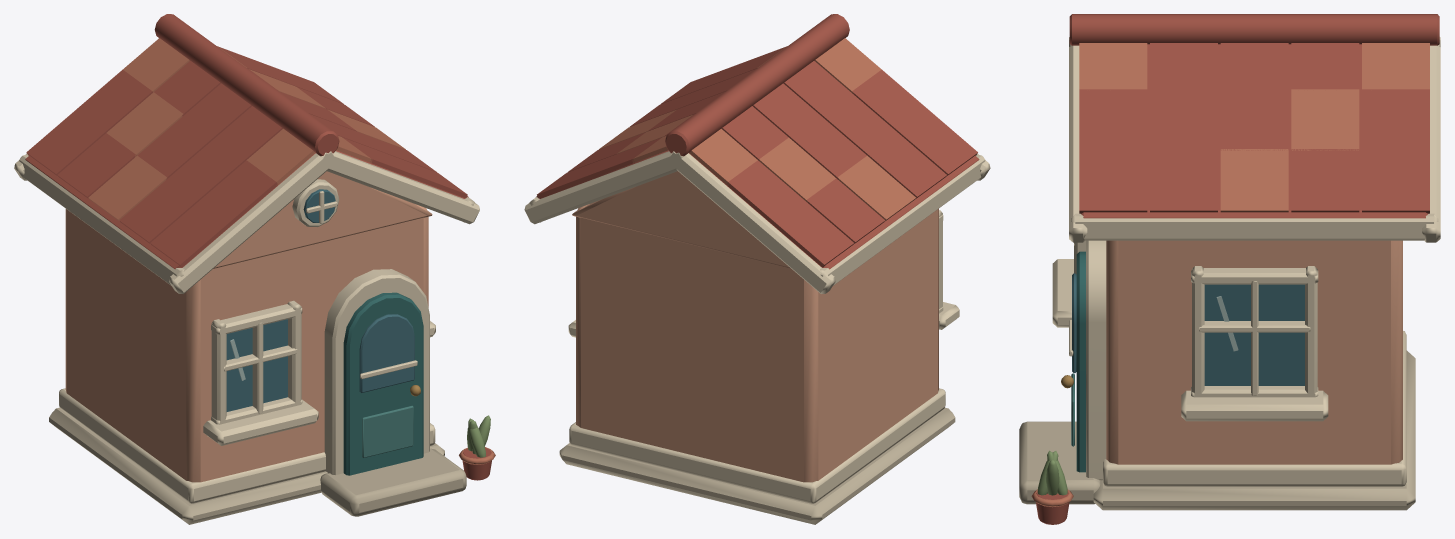
The model's file is house_level_1.glb.
3 views of the same model, side by side, from view 1: azimuth 30°, elevation 25°; view 2: azimuth 150°, elevation 25°; view 3: azimuth 270°, elevation 25° (orthographic). The views are drawn at different scales.
Parts seen in each view (by area): view 1: house_level_1_runtime; view 2: house_level_1_runtime; view 3: house_level_1_runtime.
Boxes of the visible parts, bbox=[...] form: house_level_1_runtime: bbox=[14, 14, 495, 524]; house_level_1_runtime: bbox=[524, 14, 990, 524]; house_level_1_runtime: bbox=[1019, 14, 1440, 524].
Size of the model in its own units: 2.91 by 3.33 by 2.98.
